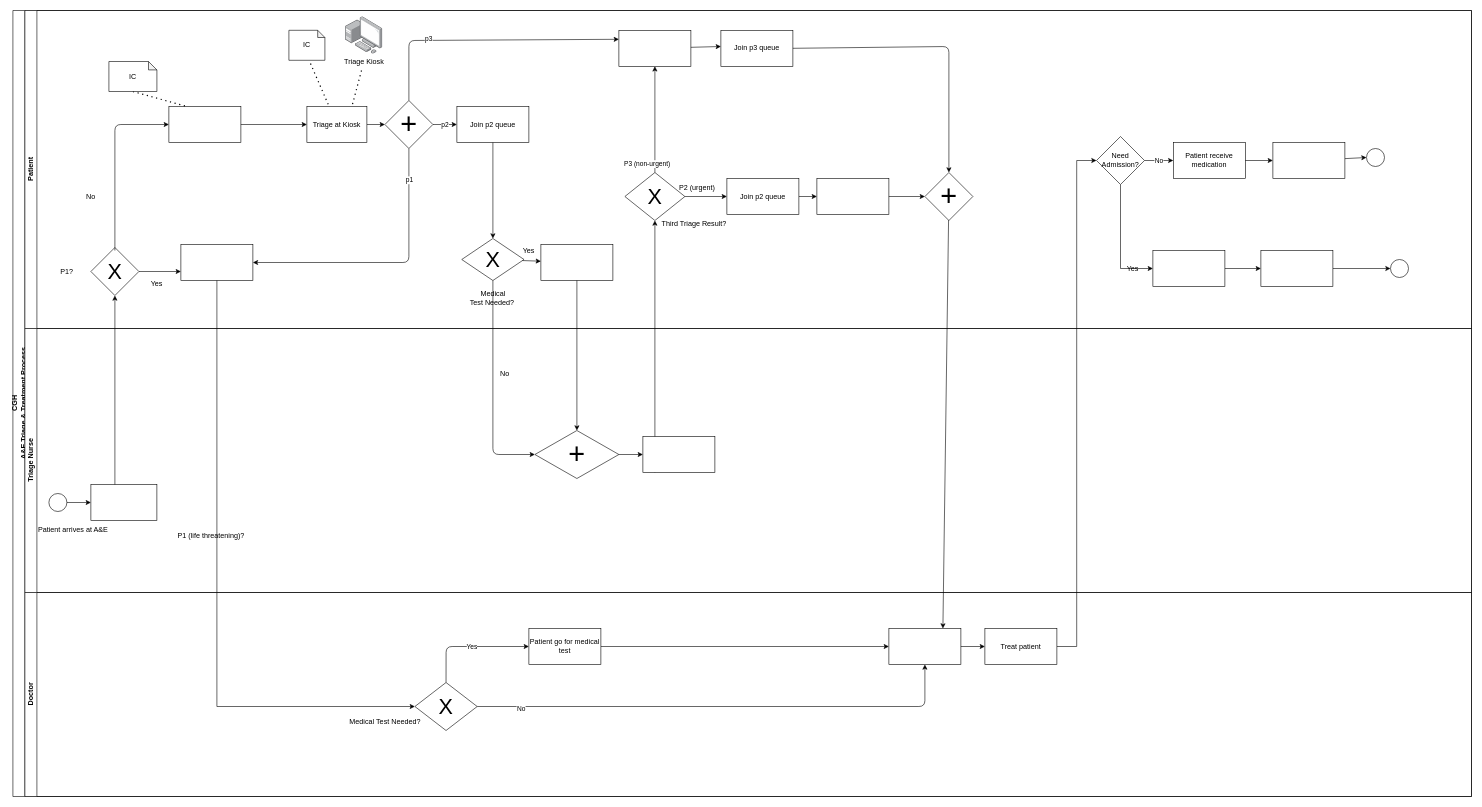
Image size: 1482x807. Some labels were removed from this diagram. Here are the shapes that lost their labels. From the top down, the centre of each, then its label:
the point at 654,48: Head to Level 2
the point at 204,124: Register at the reception
the point at 1308,160: Patient make payment
the point at 852,196: Head to Subscription Room
the point at 216,262: Join p1 queue
the point at 576,262: Go for medical test
the point at 1188,268: Join admission ward queue
the point at 1296,268: Admission to unit ward
the point at 678,454: Perform Third Triage
the point at 123,502: Perform First Triage
the point at 924,646: Diagnose patient
